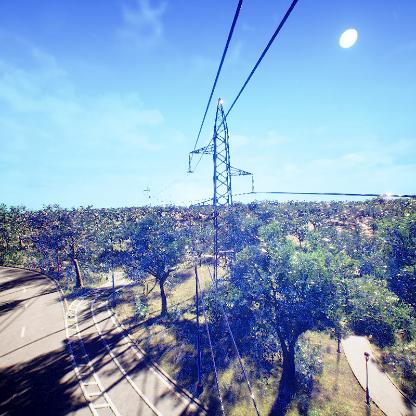tower: (185, 98, 257, 290)
